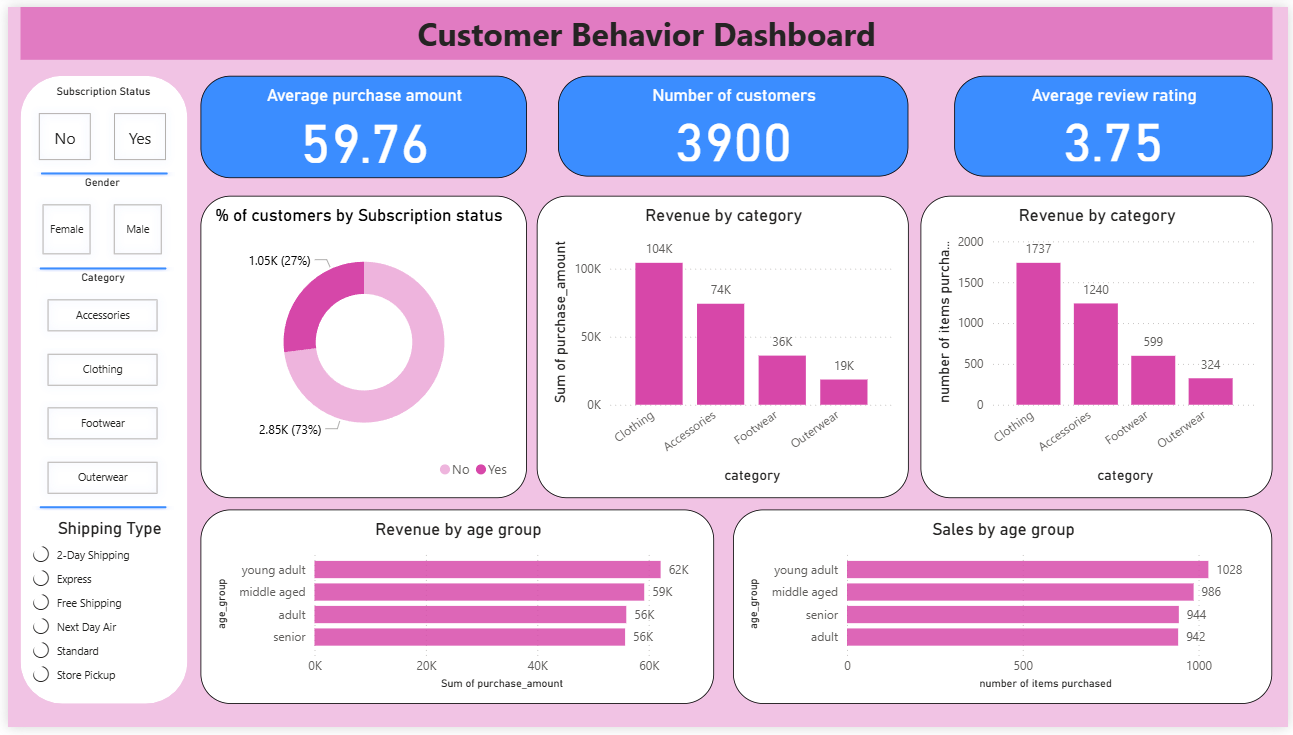

This screenshot's page, from the dashboard's own definition file:
{"tool":"powerbi","page":{"name":"Page 1","canvas":[1280,720],"ordinal":0},"visuals":[{"type":"card","title":"Number of customers","fields":{"Values":["Count(public customer.customer_id)"]},"box":[549.9,68.4,350.6,100.9],"z":0},{"type":"card","title":"Average purchase amount","fields":{"Values":["Avg(public customer.purchase_amount)"]},"box":[192.1,68.4,326.6,102.1],"z":1000},{"type":"card","title":"Average review rating","fields":{"Values":["Avg(public customer.review_rating)"]},"box":[946.2,68.4,318.2,100.9],"z":2000},{"type":"donutChart","title":"% of customers by Subscription status","fields":{"Category":["public customer.subscription_status"],"Y":["Count(public customer.customer_id)"]},"box":[192.1,188.5,326.6,302.6],"z":3000},{"type":"clusteredColumnChart","title":"Revenue by category","fields":{"Y":["Sum(public customer.purchase_amount)"],"Category":["public customer.category"]},"box":[528.3,188.5,372.2,302.6],"z":4000},{"type":"clusteredColumnChart","title":"Revenue by category","fields":{"Y":["public customer.number of items purchased"],"Category":["public customer.category"]},"box":[912.6,188.5,351.8,302.6],"z":5000},{"type":"barChart","title":"Revenue by age group","fields":{"Category":["public customer.age_group"],"Y":["Sum(public customer.purchase_amount)"]},"box":[192.1,501.9,513.9,194.5],"z":6000},{"type":"barChart","title":"Sales by age group","fields":{"Category":["public customer.age_group"],"Y":["public customer.number of items purchased"]},"box":[725.3,501.9,539.1,194.5],"z":7000},{"type":"shape","box":[12,68.4,166.9,628],"z":8000},{"type":"textbox","box":[12,0,1252.4,52.8],"z":9000},{"type":"advancedSlicerVisual","title":"Subscription Status","fields":{"Values":["public customer.subscription_status"]},"box":[15.6,78,160.9,92.5],"z":10000},{"type":"advancedSlicerVisual","title":"Gender","fields":{"Values":["public customer.gender"]},"box":[19.2,169.3,151.3,94.9],"z":11000},{"type":"advancedSlicerVisual","title":"Category","fields":{"Values":["public customer.category"]},"box":[24,264.2,142.9,238.9],"z":12000},{"type":"listSlicer","title":"Shipping Type","fields":{"Values":["public customer.shipping_type"]},"box":[19.2,511.5,165.7,174.1],"z":13000},{"type":"shape","box":[24.7,157.3,142.7,12],"z":14000},{"type":"shape","box":[23.3,252,142.7,12],"z":14001},{"type":"shape","box":[23.3,490.7,142.7,12],"z":14002}]}

Visuals, with their boxes in screenshot pixels (x1, y1, x2, y2), scaled from the page's 1280x720 canvas onto the 1293x735 screenshot:
"Number of customers" card: locate(555, 70, 910, 173)
"Average purchase amount" card: locate(194, 70, 524, 174)
"Average review rating" card: locate(956, 70, 1277, 173)
"% of customers by Subscription status" donutChart: locate(194, 192, 524, 501)
"Revenue by category" clusteredColumnChart: locate(534, 192, 910, 501)
"Revenue by category" clusteredColumnChart: locate(922, 192, 1277, 501)
"Revenue by age group" barChart: locate(194, 512, 713, 711)
"Sales by age group" barChart: locate(733, 512, 1277, 711)
shape: locate(12, 70, 181, 711)
textbox: locate(12, 0, 1277, 54)
"Subscription Status" advancedSlicerVisual: locate(16, 80, 178, 174)
"Gender" advancedSlicerVisual: locate(19, 173, 172, 270)
"Category" advancedSlicerVisual: locate(24, 270, 169, 514)
"Shipping Type" listSlicer: locate(19, 522, 187, 700)
shape: locate(25, 161, 169, 173)
shape: locate(24, 257, 168, 270)
shape: locate(24, 501, 168, 513)
